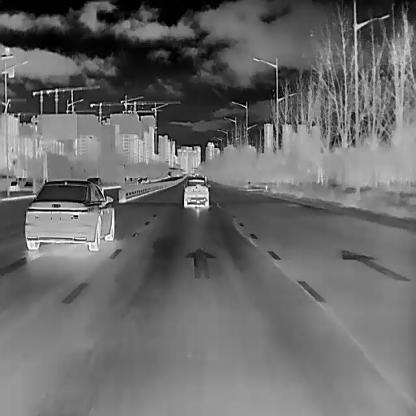car: (24, 178, 114, 250), (181, 177, 210, 208), (86, 176, 103, 193), (9, 180, 18, 190), (23, 180, 31, 190), (135, 177, 142, 184)
